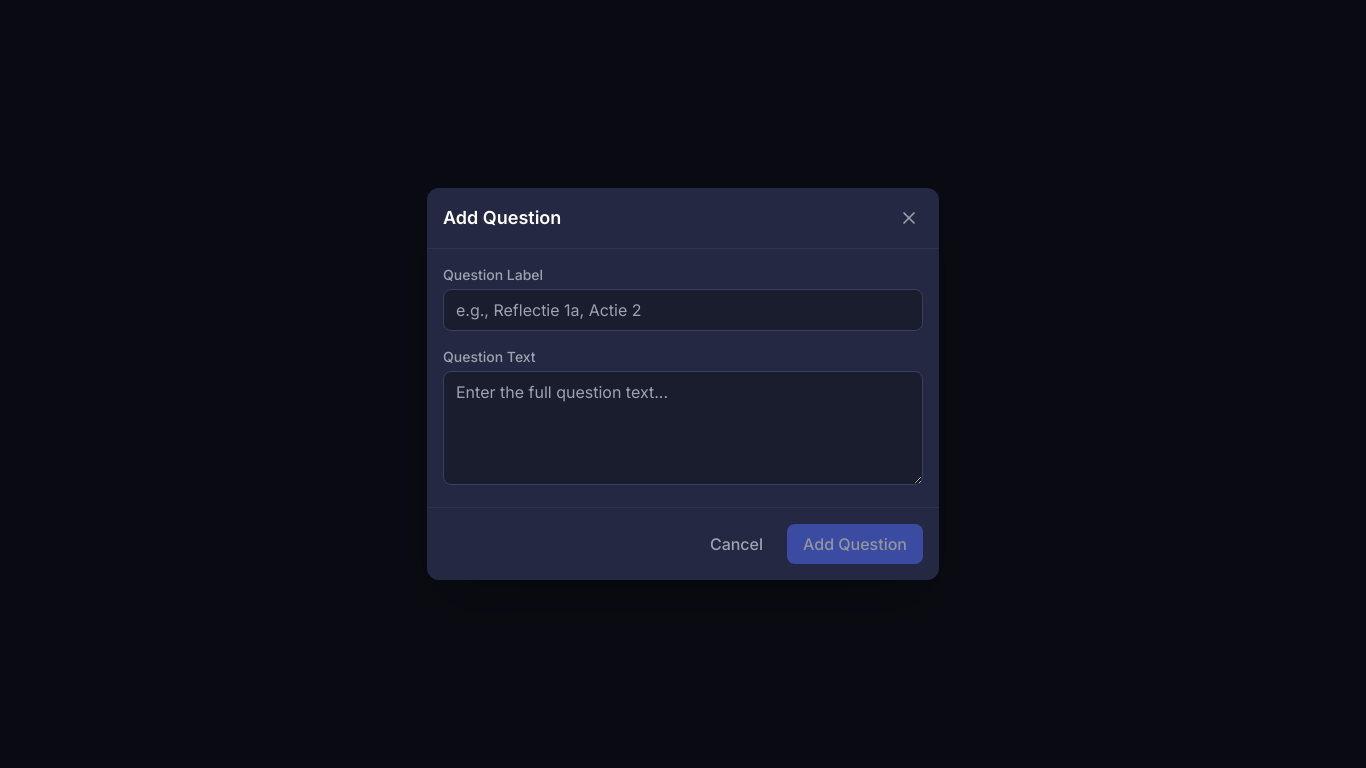
Test: QuestionModal › save button enables when both fields filled
Type "Q1" into the field with placeholder "e.g., Reflectie 1a, Actie 2" at x=683, y=310, box [443,289,923,331]
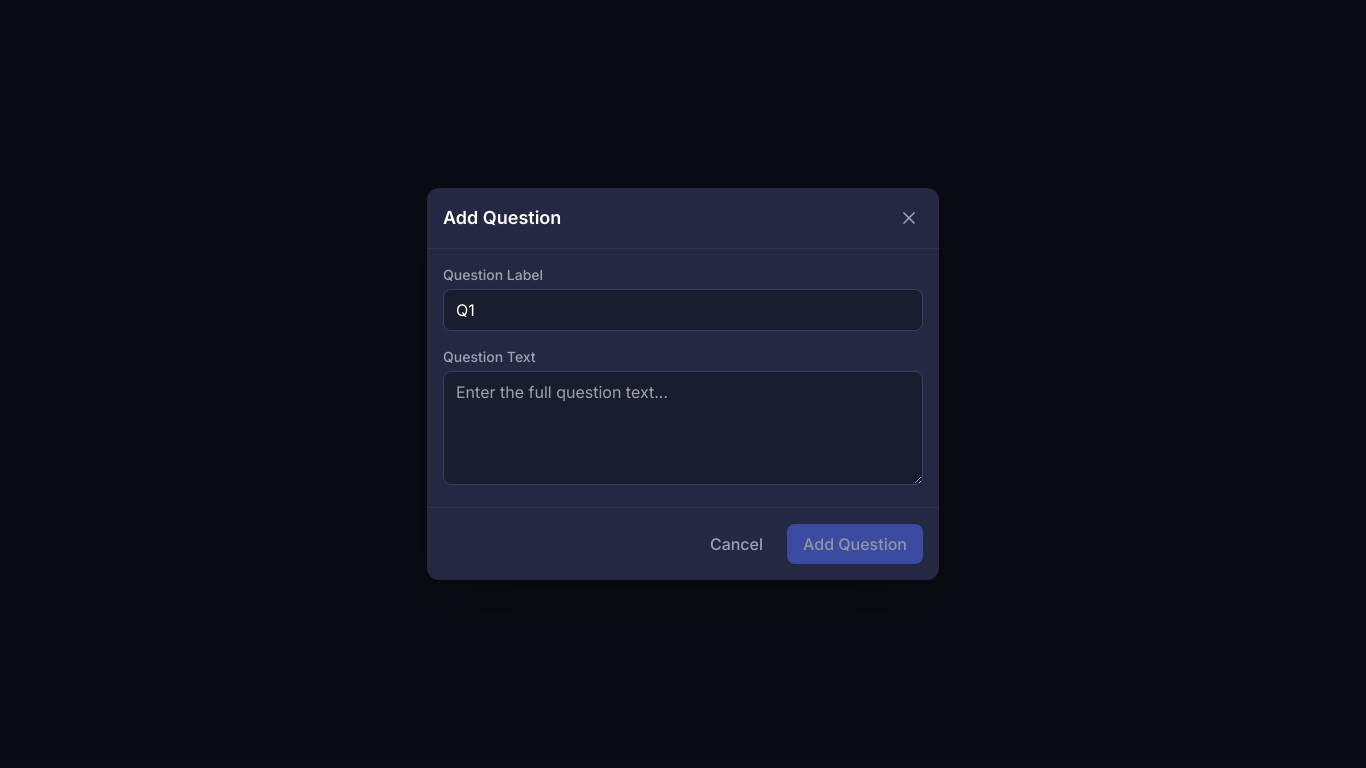
Type "Text" into the text box with placeholder "Enter the full question text..." at x=683, y=428, box [443,371,923,485]
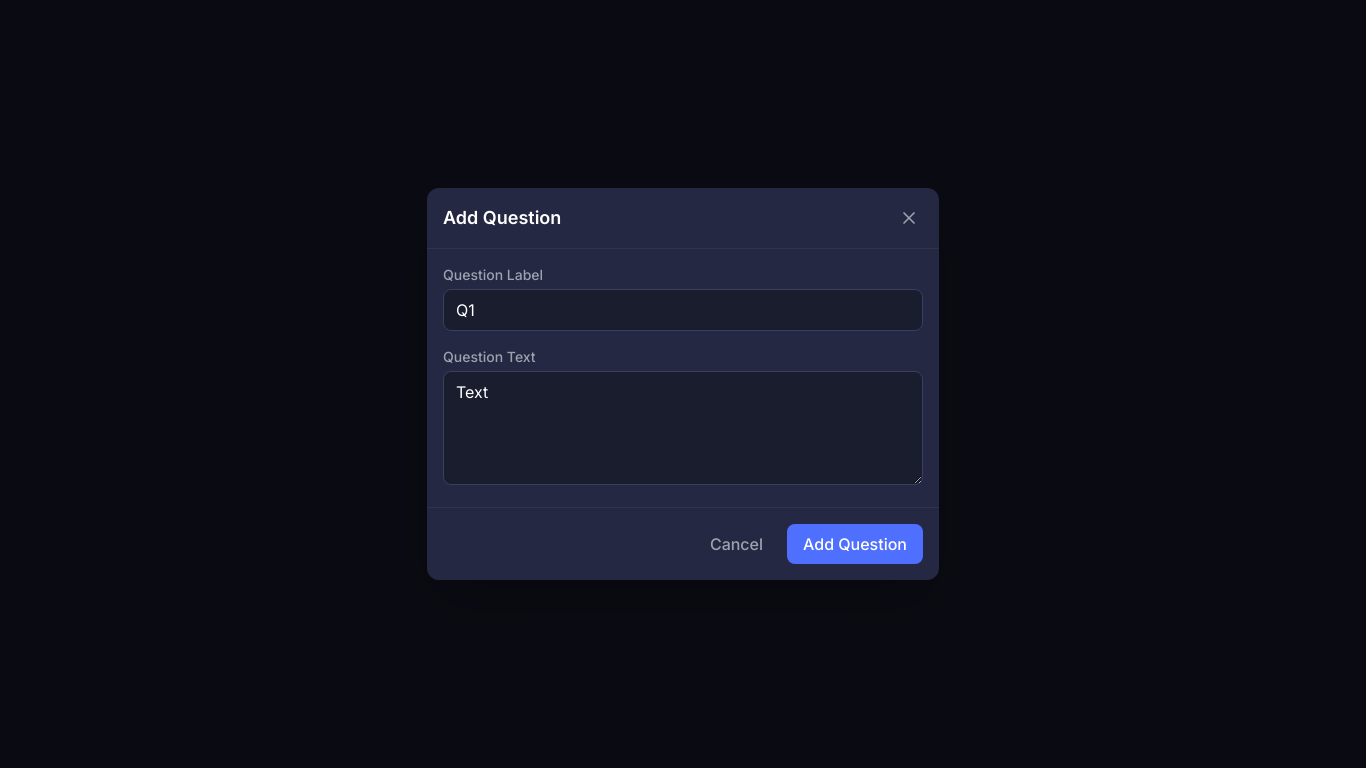
Now the button "Add Question" is enabled, box [787,524,923,564]
